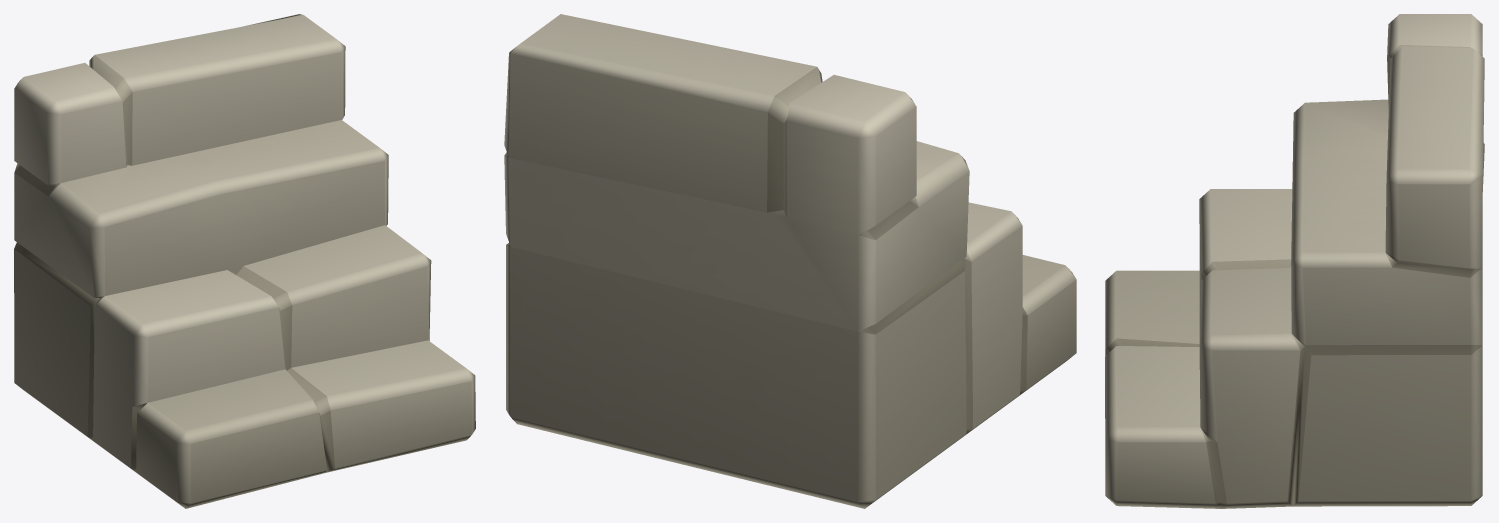
Rendered from orc_stairs_shade_1.fbx.
The picture shows the model from 3 angles, left to right: view 1: azimuth 30°, elevation 25°; view 2: azimuth 150°, elevation 25°; view 3: azimuth 270°, elevation 25°; orthographic projection. The views are drawn at different scales.
Parts seen in each view (by area): view 1: orc_stairs_shade_1; view 2: orc_stairs_shade_1; view 3: orc_stairs_shade_1.
Boxes of the visible parts, x1=… form: orc_stairs_shade_1: x1=14, y1=14, x2=475, y2=508; orc_stairs_shade_1: x1=504, y1=14, x2=1076, y2=508; orc_stairs_shade_1: x1=1105, y1=14, x2=1484, y2=508.
Bounding box in the file's own units: 101 × 102 × 101.
